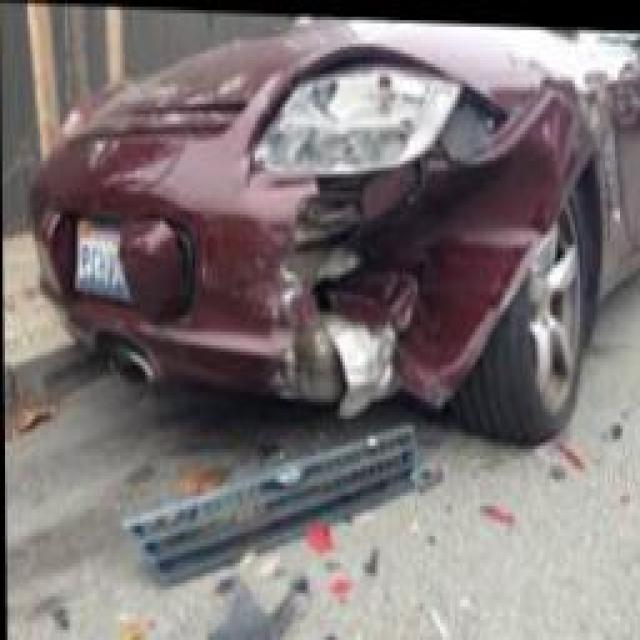Bumper: (231, 85, 584, 400)
